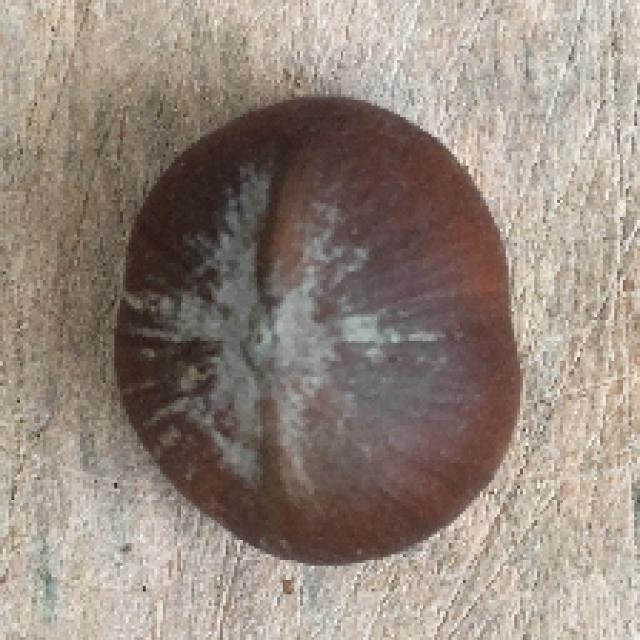damagedHazelnut: (110, 92, 532, 569)
